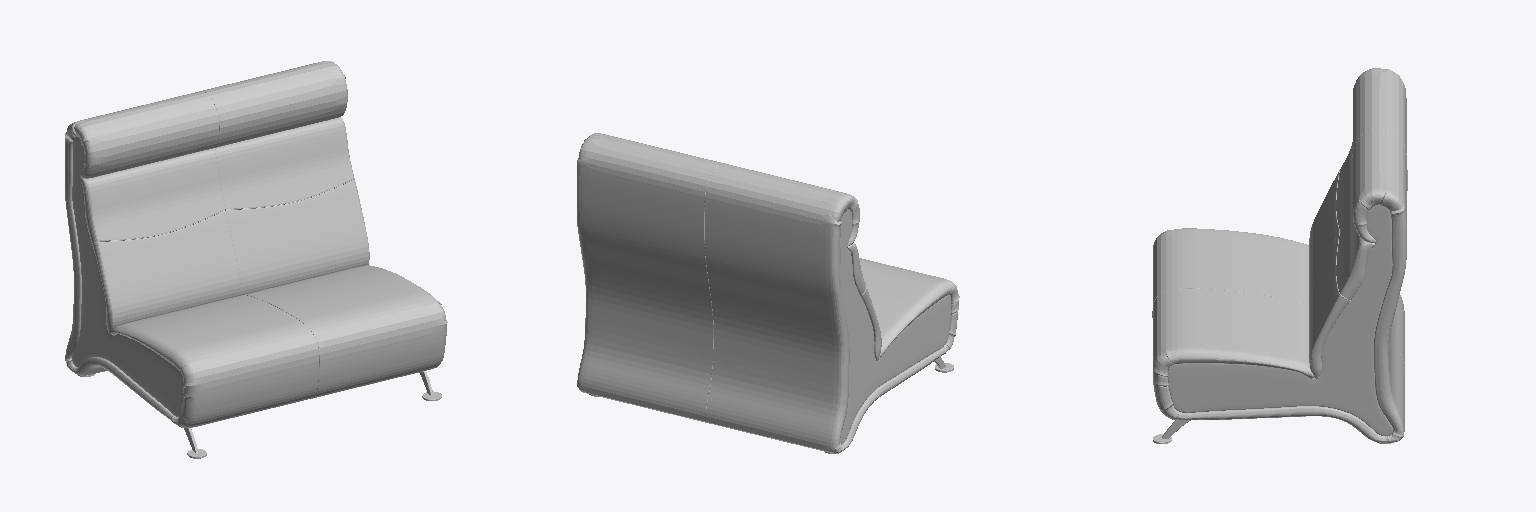
The model's file is Sofa 2.obj.
The picture shows the model from 3 angles: view 1: azimuth 30°, elevation 25°; view 2: azimuth 150°, elevation 25°; view 3: azimuth 270°, elevation 25°; orthographic projection.
Visible parts, largest first — view 1: Line37, Object06, Line36; view 2: Line37, Line36, Object06; view 3: Line37, Line32, Object06.
Boxes of the visible parts, x1,y1,x2,y2 form: Line37: [65, 61, 447, 427]; Object06: [80, 117, 369, 334]; Line36: [72, 137, 182, 417]; Line37: [577, 133, 959, 453]; Line36: [840, 209, 950, 444]; Object06: [847, 243, 881, 360]; Line37: [1152, 68, 1407, 442]; Line32: [1168, 204, 1392, 435]; Object06: [1309, 142, 1374, 378].
Size of the model in its own units: 42.53 by 39.23 by 35.73.